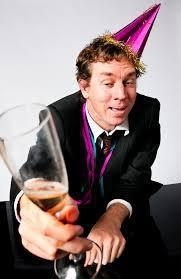Drunk: (97, 65, 137, 119)
